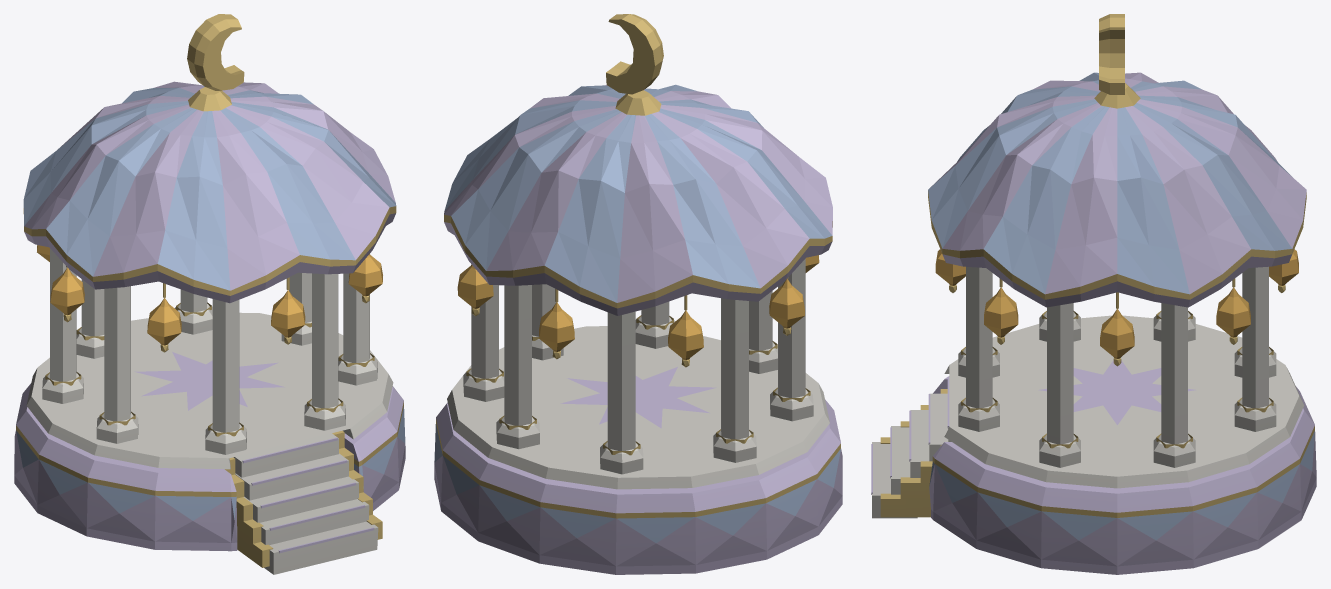
The model's file is pavilion.glb.
The picture shows the model from 3 angles, left to right: view 1: azimuth 30°, elevation 25°; view 2: azimuth 150°, elevation 25°; view 3: azimuth 270°, elevation 25°; orthographic projection. The views are drawn at different scales.
Parts seen in each view (by area): view 1: root_mesh, swing4_mesh, swing5_mesh, swing3_mesh, swing6_mesh; view 2: root_mesh, swing2_mesh, swing1_mesh, swing3_mesh, swing0_mesh; view 3: root_mesh, swing7_mesh, swing0_mesh, swing6_mesh, swing5_mesh, swing1_mesh.
Boxes of the visible parts, x1,y1,x2,y2 form: root_mesh: [14, 14, 405, 574]; swing4_mesh: [147, 283, 181, 352]; swing5_mesh: [271, 277, 305, 344]; swing3_mesh: [50, 266, 84, 322]; swing6_mesh: [348, 254, 382, 303]; root_mesh: [434, 14, 842, 574]; swing2_mesh: [668, 295, 703, 367]; swing1_mesh: [539, 289, 574, 359]; swing3_mesh: [769, 277, 804, 335]; swing0_mesh: [457, 264, 493, 316]; root_mesh: [871, 14, 1316, 574]; swing7_mesh: [1100, 292, 1134, 366]; swing0_mesh: [1216, 278, 1250, 344]; swing6_mesh: [984, 278, 1018, 344]; swing5_mesh: [935, 249, 965, 292]; swing1_mesh: [1269, 249, 1298, 292].
Size of the model in its own units: 4.8 by 6.08 by 5.1.
